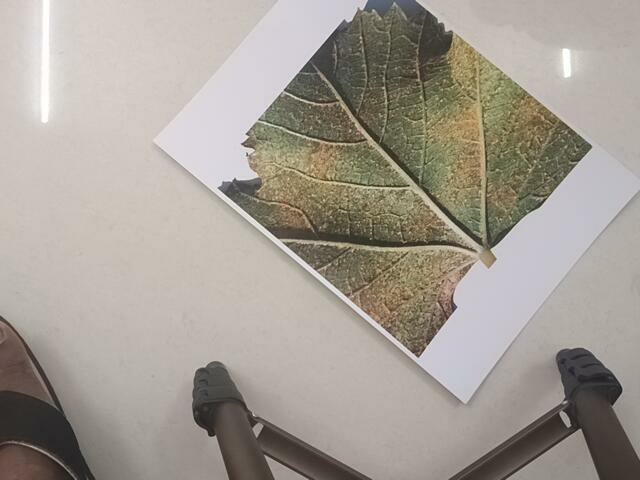Grape_Rust_Fungus: (211, 2, 594, 354)
